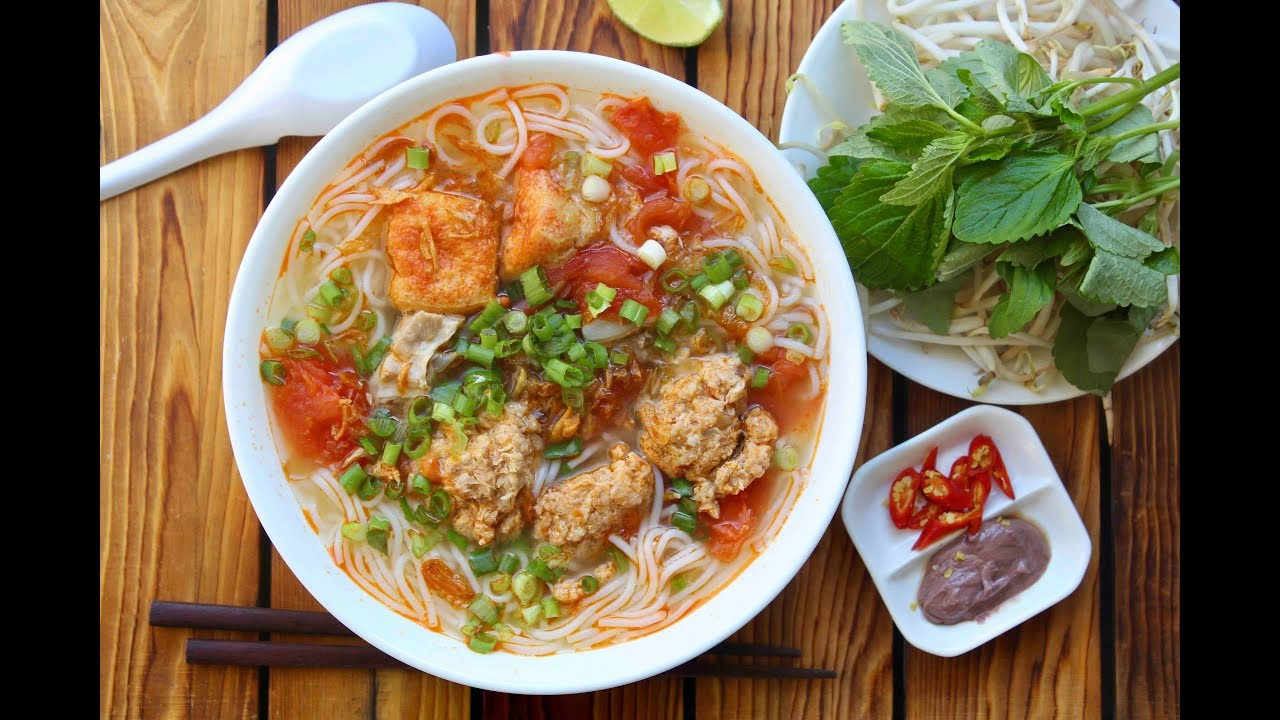chilli: (900, 456, 986, 523)
onion: (466, 298, 597, 383)
rieu: (648, 352, 763, 479), (526, 453, 644, 569), (429, 415, 538, 535)
tofu: (384, 184, 499, 314), (508, 167, 594, 260)
tomato: (262, 344, 363, 460), (566, 237, 666, 316)
vegetable: (977, 46, 1148, 175)
